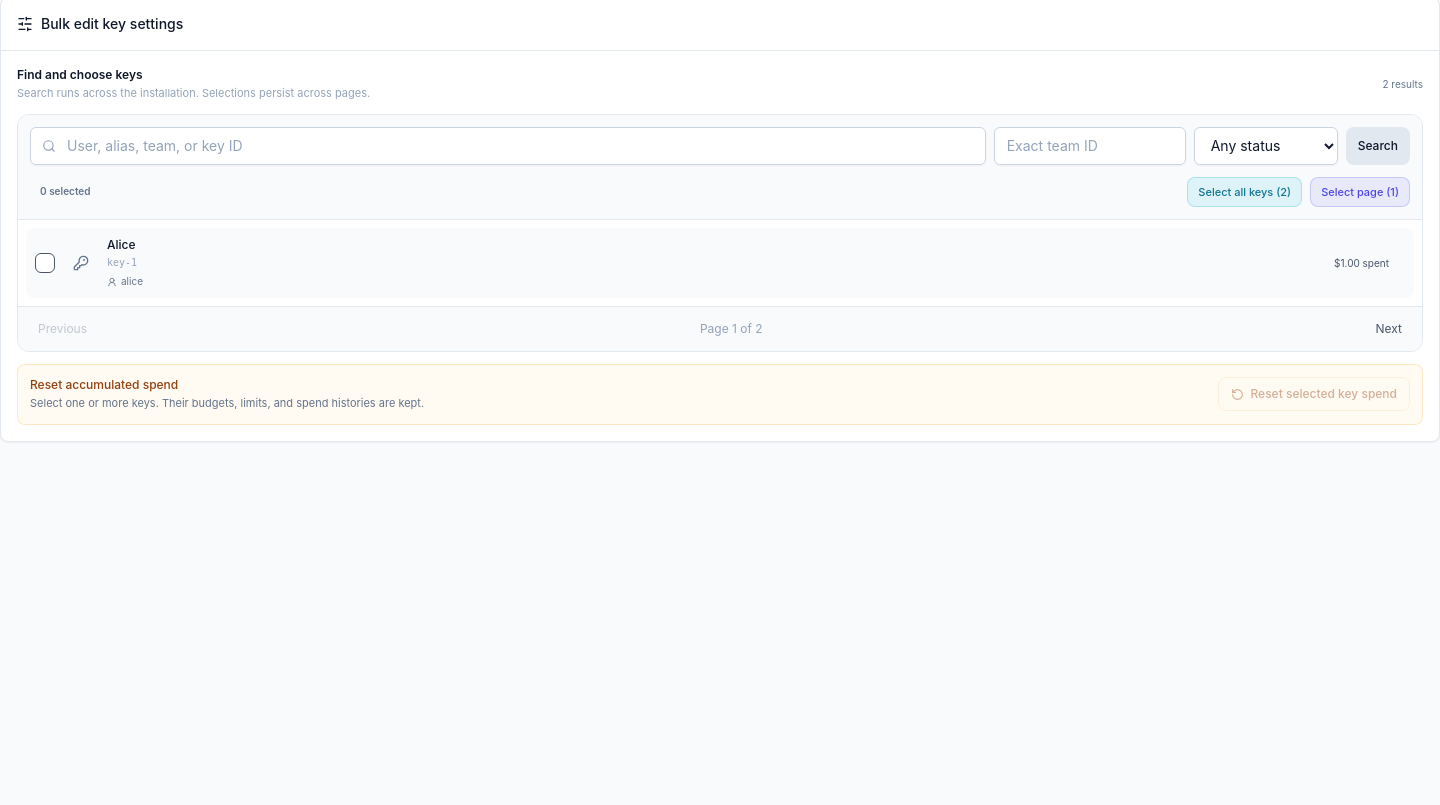
Test: BulkKeyEditor › does not imply that keys on other pages share the displayed settings
Click the button "Select all keys (2)".
click(1245, 192)  # box [1187,176,1302,207]
(page scrolled)
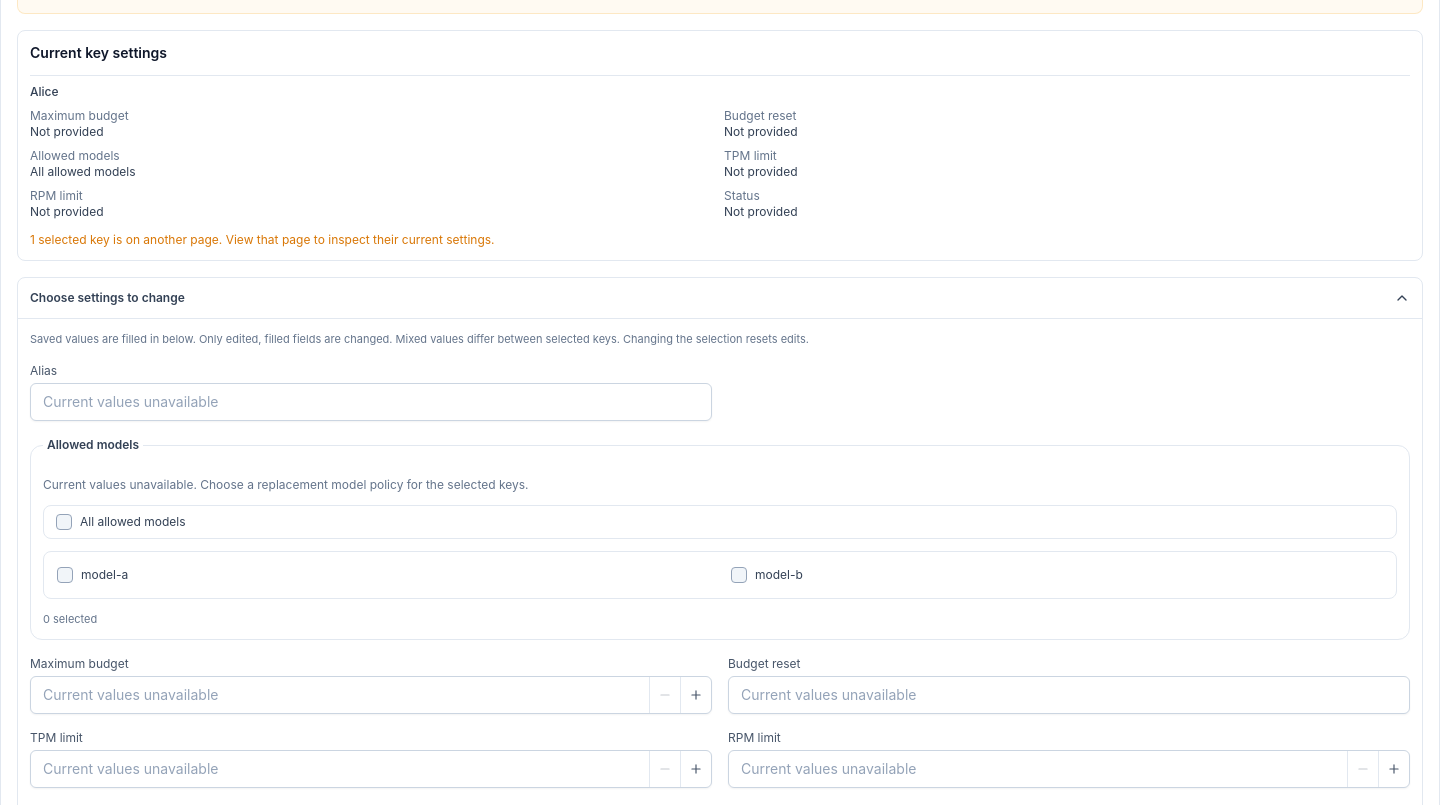
Expected: the text "1 selected key is on another page" is shown, [30,232,495,246]
Expected: the field labelled "Alias" is empty, [30,383,712,421]
